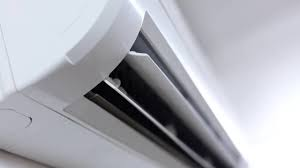ac: (1, 1, 253, 167)
